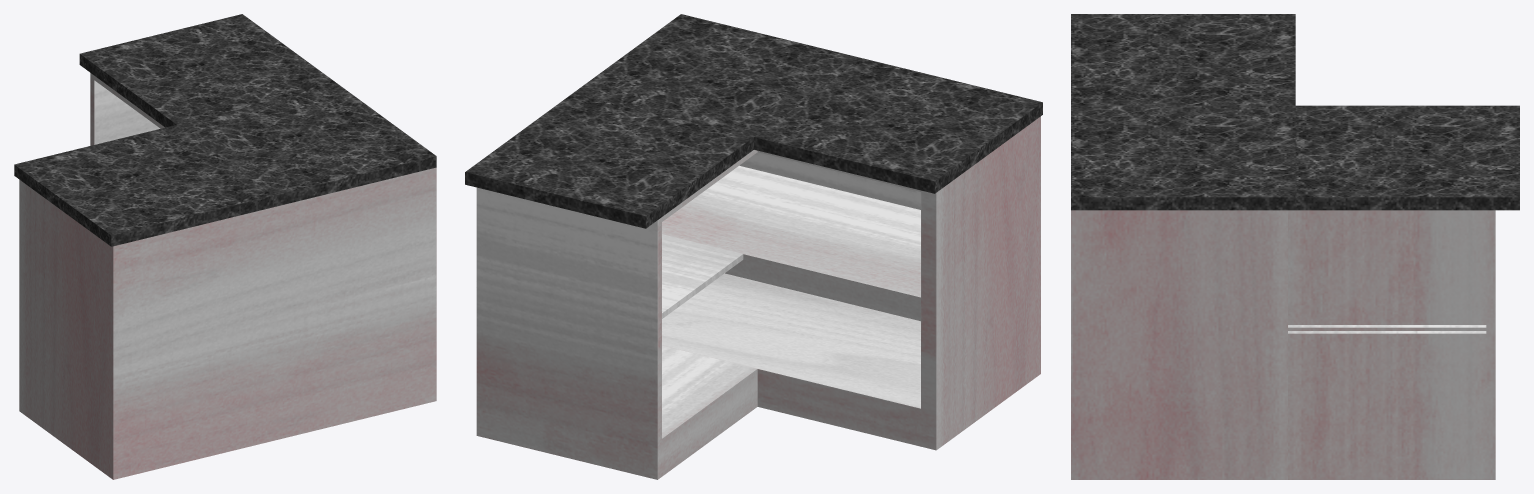
Rendered from cornor cupboard.fbx.
3 views of the same model, side by side, from view 1: azimuth 30°, elevation 25°; view 2: azimuth 150°, elevation 25°; view 3: azimuth 270°, elevation 25° (orthographic). The views are drawn at different scales.
Visible parts, largest first — view 1: cornor_cupboard1; view 2: cornor_cupboard1; view 3: cornor_cupboard1.
Boxes of the visible parts, x1=… form: cornor_cupboard1: x1=14, y1=14, x2=436, y2=479; cornor_cupboard1: x1=465, y1=14, x2=1042, y2=479; cornor_cupboard1: x1=1071, y1=14, x2=1519, y2=479.
Bounding box in the file's own units: 2.26 × 1.6 × 2.3.
